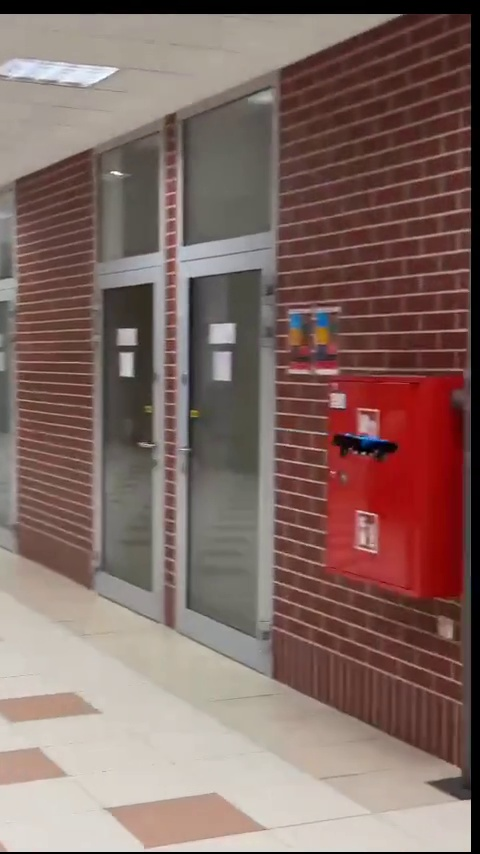drone: (337, 431, 391, 460)
